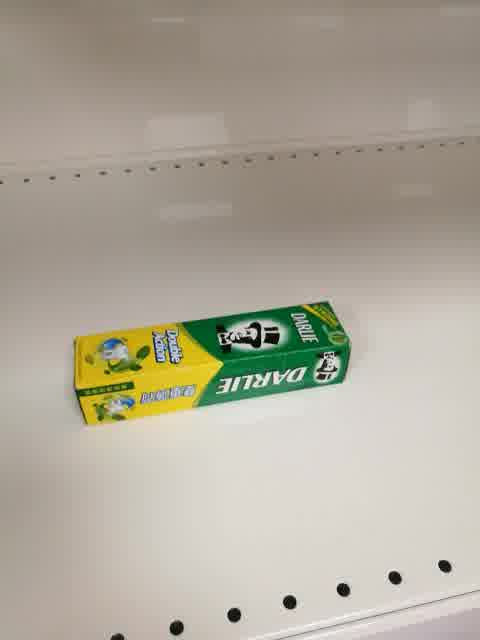toothpaste: (69, 300, 351, 426)
